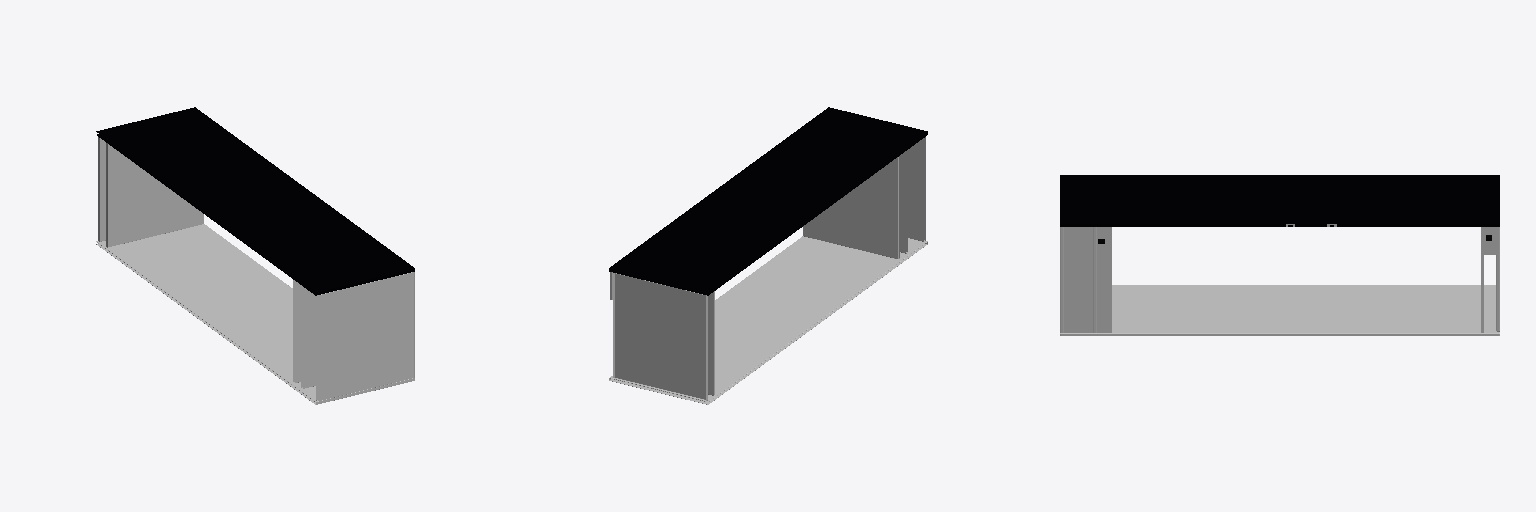
Rendered from Kitchen03Fridge.obj.
3 views of the same model, side by side, from view 1: azimuth 30°, elevation 25°; view 2: azimuth 150°, elevation 25°; view 3: azimuth 270°, elevation 25° (orthographic).
Parts seen in each view (by area): view 1: Kitchen03Fridge; view 2: Kitchen03Fridge; view 3: Kitchen03Fridge.
Boxes of the visible parts, x1,y1,x2,y2 form: Kitchen03Fridge: [96, 107, 414, 404]; Kitchen03Fridge: [609, 107, 927, 404]; Kitchen03Fridge: [1060, 175, 1499, 335].
Bounding box in the file's own units: 0.5609 × 0.6039 × 2.13.